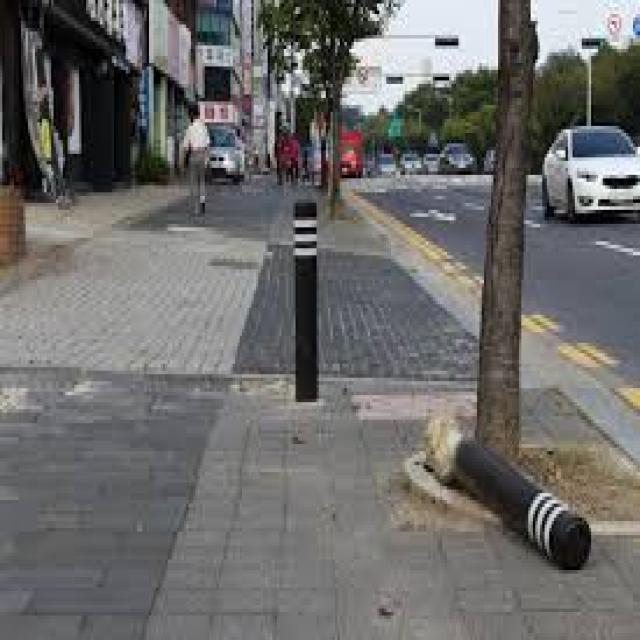bollard: (410, 400, 606, 582), (288, 195, 328, 404)
